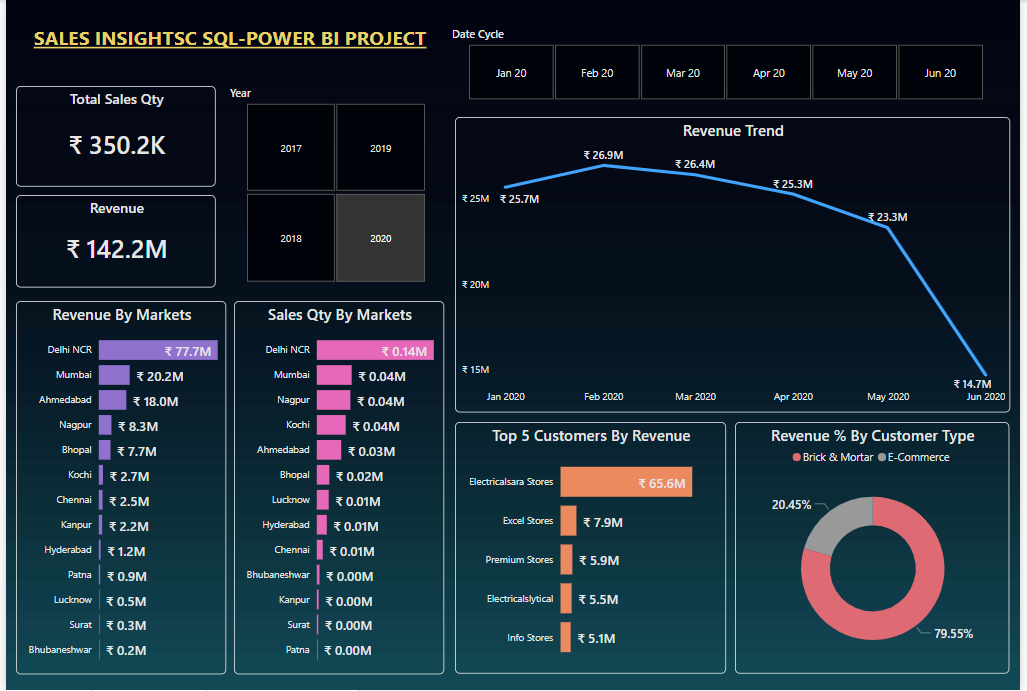

This screenshot's page, from the dashboard's own definition file:
{"tool":"powerbi","page":{"name":"Key Insights","canvas":[1250,850],"ordinal":0},"visuals":[{"type":"card","title":"Revenue","fields":{"Values":["Key Matrix.Revenue"]},"box":[12.5,240,246.2,113.8],"z":0},{"type":"card","title":"Total Sales Qty","fields":{"Values":["Key Matrix.Total Sales Qty"]},"box":[12.5,106.2,246.2,123.8],"z":1000},{"type":"barChart","title":"Revenue By Markets","fields":{"Category":["sales markets.markets_name"],"Y":["Key Matrix.Revenue"]},"box":[12.5,371.2,258.8,460],"z":2000},{"type":"lineChart","title":"Revenue Trend","fields":{"Y":["Key Matrix.Revenue"],"Category":["sales date.cy_date.Variation.Date Hierarchy.Year","sales date.cy_date.Variation.Date Hierarchy.Quarter","sales date.cy_date.Variation.Date Hierarchy.Month","sales date.cy_date.Variation.Date Hierarchy.Day"]},"box":[552.5,143.8,683.8,363.8],"z":3000},{"type":"slicer","title":"Year","fields":{"Values":["sales date.year"]},"box":[271.2,106.2,268.8,247.5],"z":4000},{"type":"slicer","title":"Date Cycle","fields":{"Values":["sales date.cy_date"]},"box":[545,33.8,682.5,96.2],"z":5000},{"type":"barChart","title":"Sales Qty By Markets","fields":{"Category":["sales markets.markets_name"],"Y":["Key Matrix.Total Sales Qty"]},"box":[281.2,371.2,258.8,460],"z":6000},{"type":"barChart","title":"Top 5 Customers By Revenue","fields":{"Y":["Key Matrix.Revenue"],"Category":["sales customers.custmer_name"]},"box":[552.5,520.2,333.8,310],"z":7000},{"type":"donutChart","title":"Revenue % By Customer Type","fields":{"Category":["sales customers.customer_type"],"Y":["Key Matrix.Revenue"]},"box":[897.5,520.2,337.5,310],"z":8000},{"type":"textbox","box":[12.5,25,527.5,67.5],"z":9000}]}

Visuals, with their boxes in screenshot pixels (x1, y1, x2, y2), scaled from the page's 1250x850 canvas onto the 1027x691 screenshot:
"Revenue" card: box=[10, 195, 213, 288]
"Total Sales Qty" card: box=[10, 86, 213, 187]
"Revenue By Markets" barChart: box=[10, 302, 223, 676]
"Revenue Trend" lineChart: box=[454, 117, 1016, 413]
"Year" slicer: box=[223, 86, 444, 288]
"Date Cycle" slicer: box=[448, 27, 1009, 106]
"Sales Qty By Markets" barChart: box=[231, 302, 444, 676]
"Top 5 Customers By Revenue" barChart: box=[454, 423, 728, 675]
"Revenue % By Customer Type" donutChart: box=[737, 423, 1015, 675]
textbox: box=[10, 20, 444, 75]
